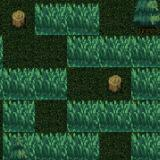Obstacle: (2, 3, 34, 36), (100, 67, 131, 99), (132, 2, 160, 35)
Slow: (67, 35, 160, 67), (67, 100, 160, 132), (0, 68, 67, 100), (34, 3, 100, 35), (2, 100, 36, 160), (35, 133, 100, 160), (131, 66, 160, 100), (131, 132, 160, 160)
